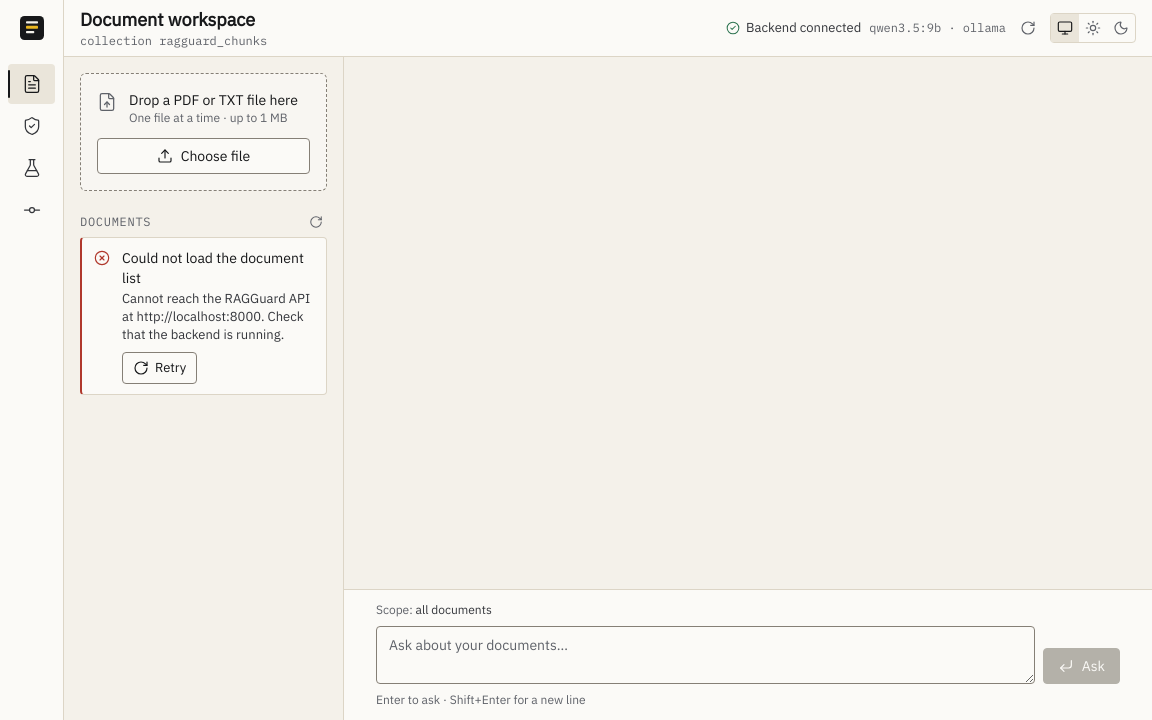
Scenario: documents › recovers from a failed list request via Retry
Check: the text "Could not load the document list" is shown, box [122, 248, 314, 288]
Step 1. Click the button "Retry" → point(160, 368), box [122, 352, 197, 384]
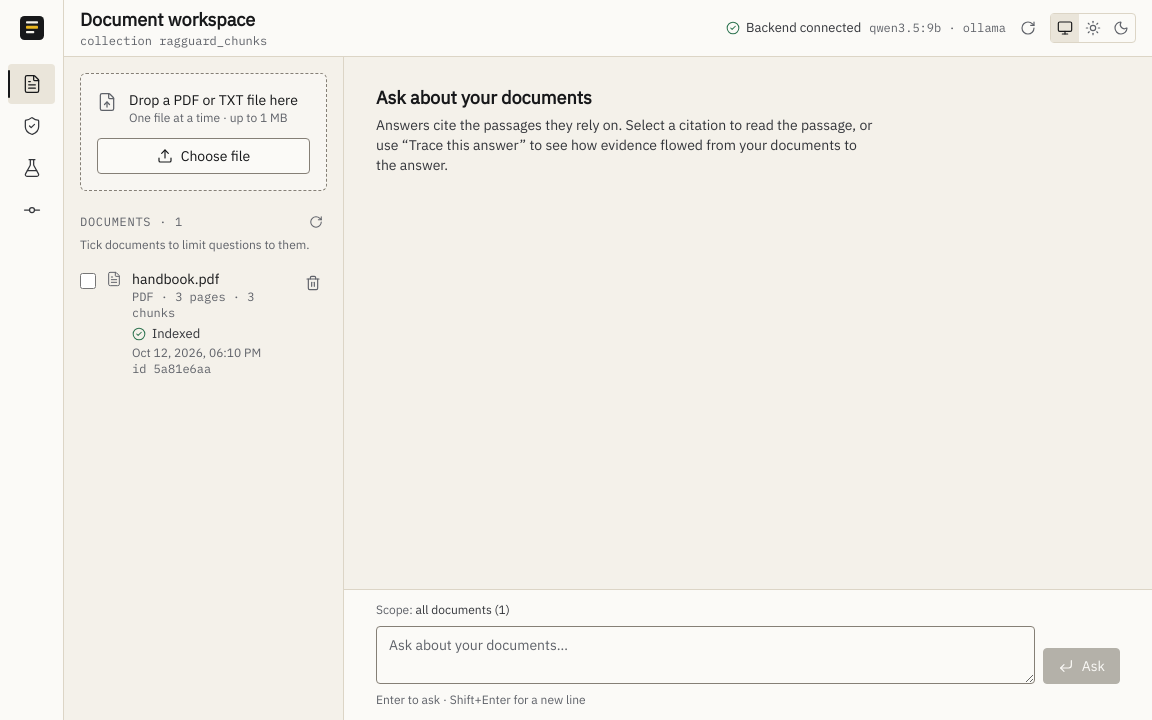
Check: the list named "Indexed documents" shows "handbook.pdf", box [132, 270, 219, 288]
